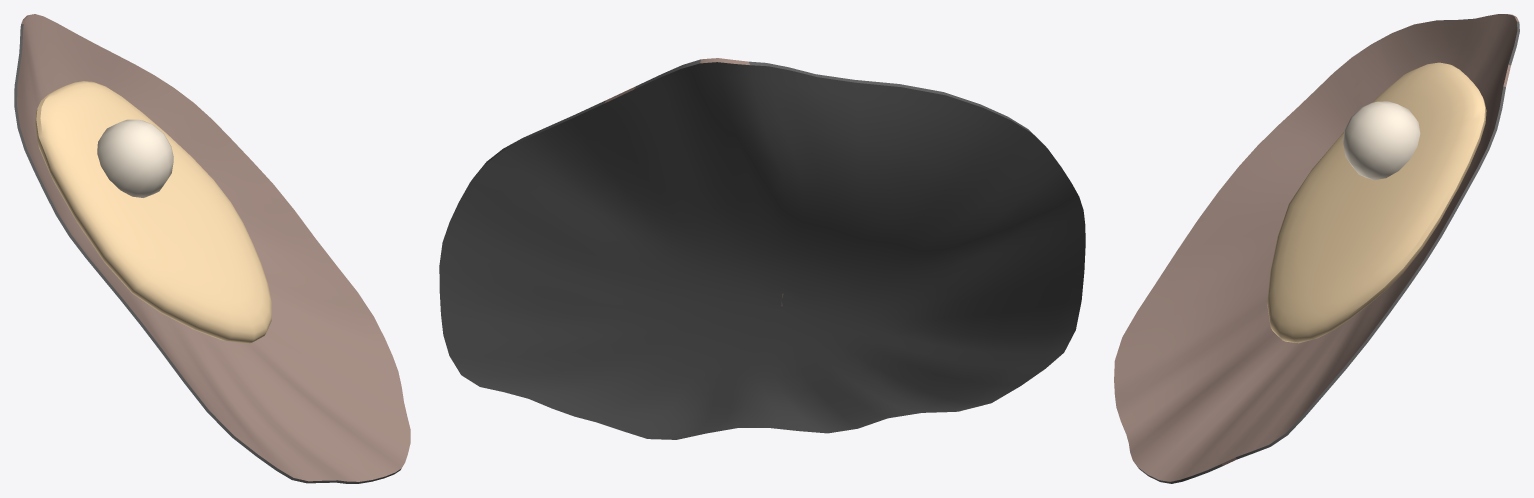
Rendered from oyster.gltf.
The picture shows the model from 3 angles, left to right: view 1: azimuth 30°, elevation 25°; view 2: azimuth 150°, elevation 25°; view 3: azimuth 270°, elevation 25°; orthographic projection. The views are drawn at different scales.
Parts seen in each view (by area): view 1: Circle.2250; view 2: Circle.2250; view 3: Circle.2250.
Part boxes in pixels (box(x1,y1,x2,y2)): Circle.2250: box(14, 14, 410, 483); Circle.2250: box(439, 58, 1085, 439); Circle.2250: box(1114, 14, 1519, 483).
Bounding box in the file's own units: 1.87 × 2.07 × 2.07.
1 material, 1 textured.
